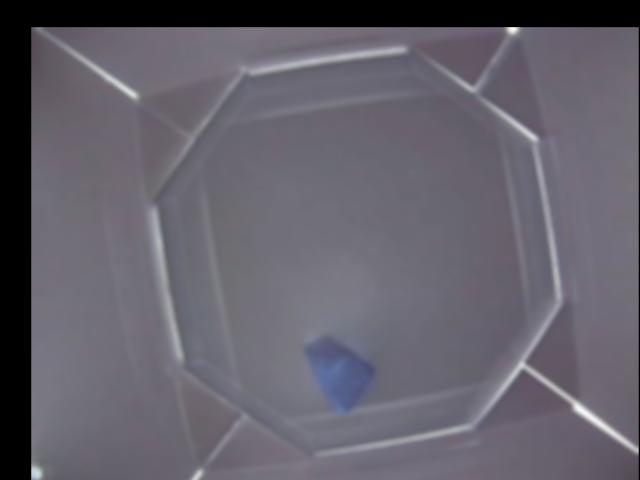Mooli: (301, 333, 372, 418)
